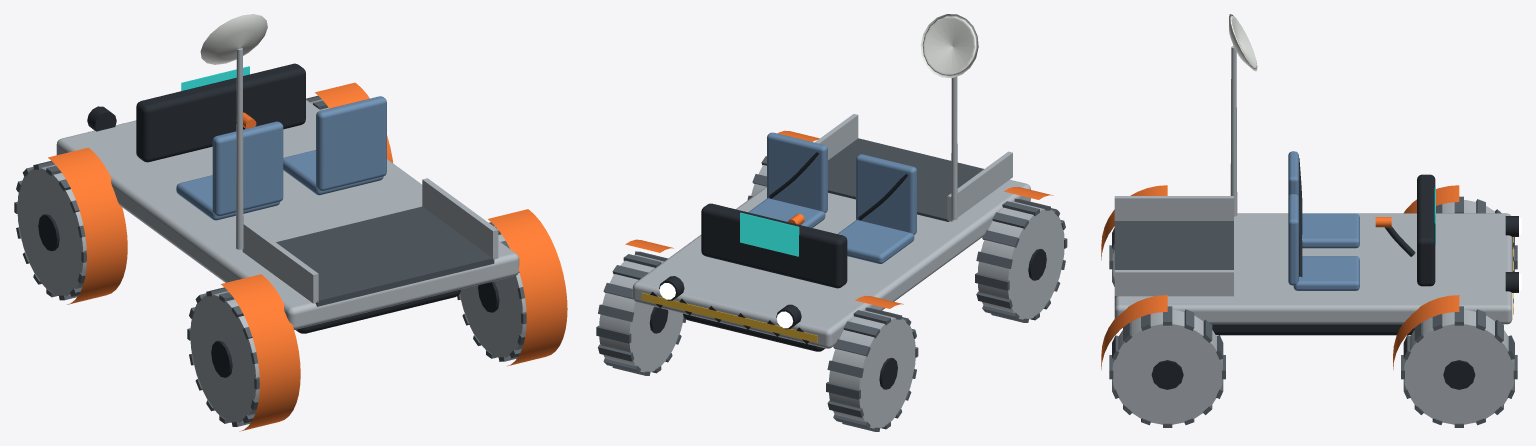
File: moon-rover.glb
3 views of the same model, side by side, from view 1: azimuth 30°, elevation 25°; view 2: azimuth 150°, elevation 25°; view 3: azimuth 270°, elevation 25° (orthographic). The views are drawn at different scales.
Visible parts, largest first — view 1: moon-rover-aluminium, moon-rover-safety-orange, moon-rover-floor-grate, moon-rover-dark-polymer, seat_r-cargo-bag-blue, seat_l-cargo-bag-blue, wheel_fl-aluminium, wheel_rl-aluminium, wheel_rr-aluminium, rover_antenna-hull-white, rover_antenna-aluminium, wheel_fl-dark-steel (+7 smaller); view 2: moon-rover-aluminium, moon-rover-dark-polymer, seat_l-cargo-bag-blue, wheel_rl-aluminium, wheel_fl-aluminium, seat_r-cargo-bag-blue, moon-rover-floor-grate, wheel_fr-aluminium, rover_antenna-hull-white, wheel_rl-dark-steel, wheel_fl-dark-steel, wheel_fr-dark-steel (+7 smaller); view 3: moon-rover-aluminium, wheel_rr-aluminium, wheel_fr-aluminium, moon-rover-floor-grate, moon-rover-dark-polymer, moon-rover-safety-orange, seat_r-cargo-bag-blue, seat_l-cargo-bag-blue, wheel_rr-dark-steel, wheel_fr-dark-steel, rover_antenna-aluminium, rover_antenna-hull-white (+5 smaller).
Part boxes in pixels (bbox=[...]): moon-rover-aluminium: bbox=[56, 100, 519, 329]; moon-rover-safety-orange: bbox=[48, 82, 567, 431]; moon-rover-floor-grate: bbox=[276, 206, 494, 306]; moon-rover-dark-polymer: bbox=[136, 63, 460, 333]; seat_r-cargo-bag-blue: bbox=[283, 96, 386, 195]; seat_l-cargo-bag-blue: bbox=[176, 121, 283, 220]; wheel_fl-aluminium: bbox=[17, 164, 86, 296]; wheel_rl-aluminium: bbox=[190, 291, 259, 422]; wheel_rr-aluminium: bbox=[460, 226, 526, 357]; rover_antenna-hull-white: bbox=[200, 14, 267, 64]; rover_antenna-aluminium: bbox=[236, 48, 243, 249]; wheel_fl-dark-steel: bbox=[14, 161, 86, 300]; moon-rover-aluminium: bbox=[632, 114, 1030, 348]; moon-rover-dark-polymer: bbox=[650, 203, 847, 351]; seat_l-cargo-bag-blue: bbox=[837, 154, 916, 263]; wheel_rl-aluminium: bbox=[977, 201, 1064, 319]; wheel_fl-aluminium: bbox=[829, 310, 915, 428]; seat_r-cargo-bag-blue: bbox=[748, 132, 827, 227]; moon-rover-floor-grate: bbox=[828, 138, 983, 221]; wheel_fr-aluminium: bbox=[599, 254, 683, 372]; rover_antenna-hull-white: bbox=[920, 14, 978, 77]; wheel_rl-dark-steel: bbox=[975, 198, 1067, 322]; wheel_fl-dark-steel: bbox=[826, 307, 918, 431]; wheel_fr-dark-steel: bbox=[596, 251, 686, 375]; moon-rover-aluminium: bbox=[1114, 196, 1512, 324]; wheel_rr-aluminium: bbox=[1112, 309, 1222, 424]; wheel_fr-aluminium: bbox=[1404, 309, 1514, 424]; moon-rover-floor-grate: bbox=[1114, 221, 1233, 297]; moon-rover-dark-polymer: bbox=[1212, 174, 1513, 335]; moon-rover-safety-orange: bbox=[1101, 185, 1459, 369]; seat_r-cargo-bag-blue: bbox=[1288, 194, 1359, 290]; seat_l-cargo-bag-blue: bbox=[1288, 151, 1359, 248]; wheel_rr-dark-steel: bbox=[1109, 306, 1225, 427]; wheel_fr-dark-steel: bbox=[1401, 306, 1517, 427]; rover_antenna-aluminium: bbox=[1230, 46, 1237, 216]; rover_antenna-hull-white: bbox=[1229, 14, 1257, 71].
Size of the model in its own units: 2.26 by 2.6 by 3.17.
